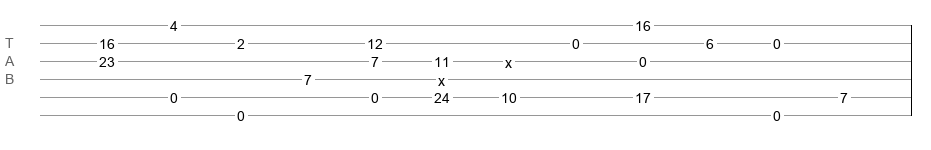0: (170, 90, 178, 100), (237, 108, 245, 118), (371, 90, 379, 100), (572, 36, 580, 46), (639, 54, 647, 64), (773, 36, 781, 46), (773, 108, 781, 118)
10: (501, 90, 517, 100)
11: (434, 54, 450, 64)
12: (367, 36, 383, 46)
16: (99, 36, 115, 46), (635, 18, 651, 28)
17: (635, 90, 651, 100)
2: (237, 36, 245, 46)
23: (99, 54, 115, 64)
24: (434, 90, 450, 100)
4: (170, 18, 178, 28)
6: (706, 36, 714, 46)
7: (304, 72, 312, 82), (371, 54, 379, 64), (840, 90, 848, 100)
x: (438, 73, 445, 81), (505, 55, 512, 63)
